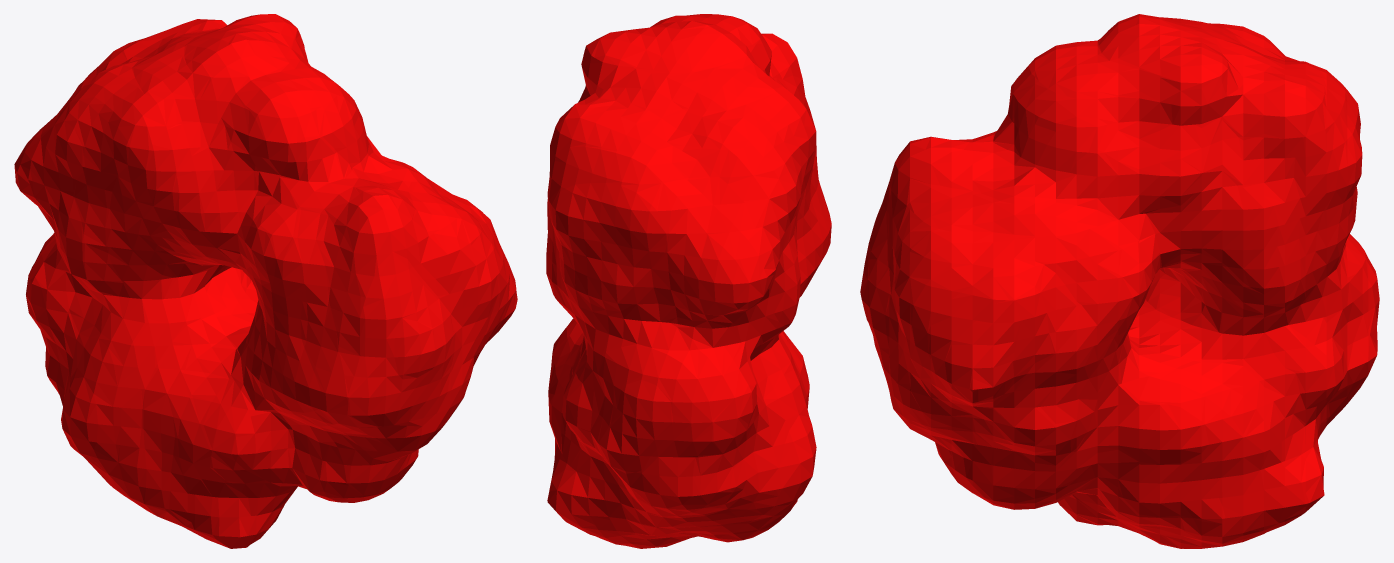
The model's file is rraA_coarse.dae.
3 renders of one model, left to right at view 1: azimuth 30°, elevation 25°; view 2: azimuth 150°, elevation 25°; view 3: azimuth 270°, elevation 25°, orthographic. The views are drawn at different scales.
Visible parts, largest first — view 1: rraA; view 2: rraA; view 3: rraA.
Part boxes in pixels (left/top/right/bottom): rraA: left=14, top=14, right=517, bottom=548; rraA: left=546, top=14, right=831, bottom=548; rraA: left=860, top=14, right=1379, bottom=548.
Size of the model in its own units: 53.1 by 71.6 by 65.03.
